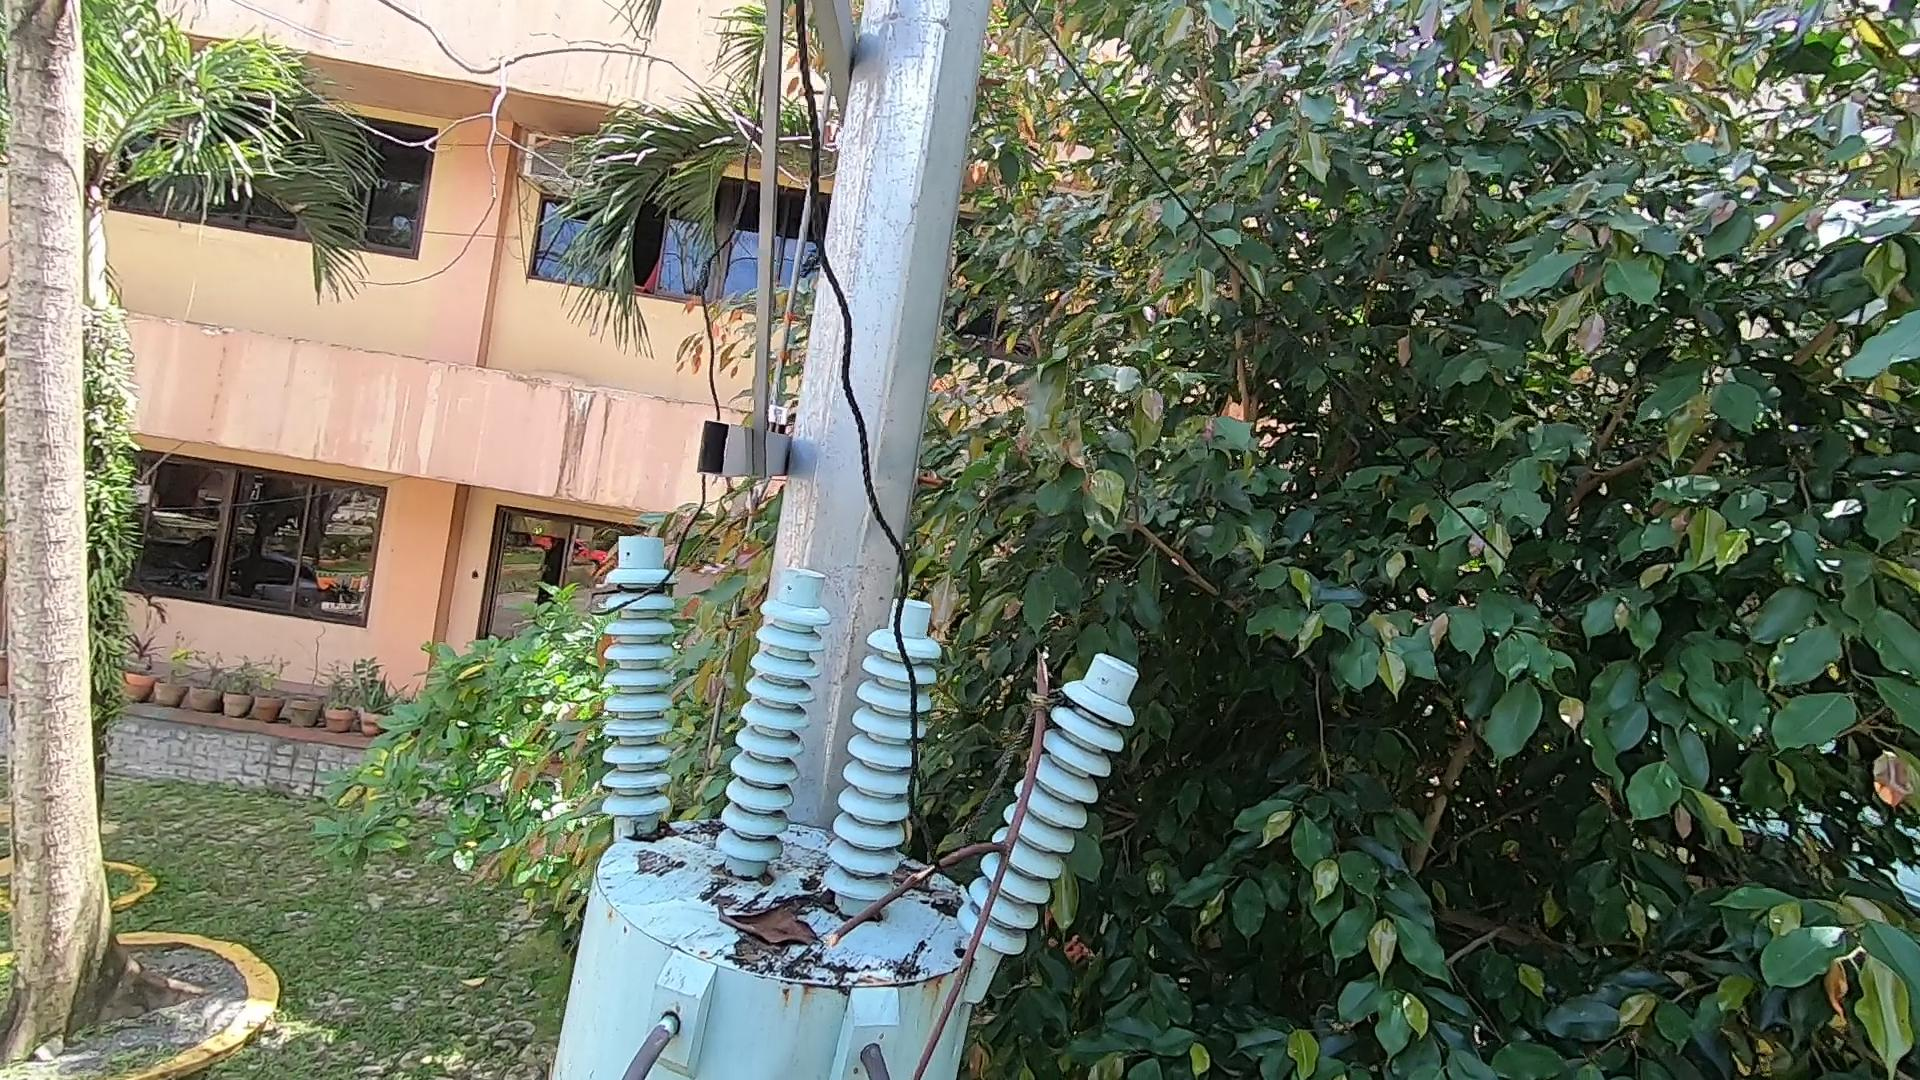leaf: (698, 891, 824, 968)
tree branch: (831, 650, 1127, 1080)
